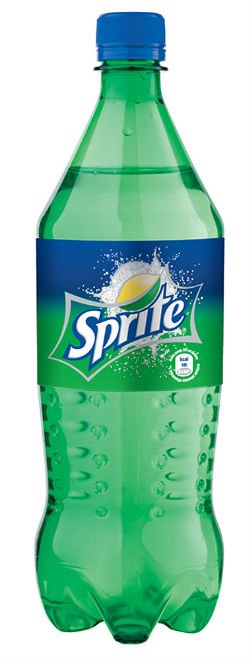botol: (14, 2, 225, 652)
